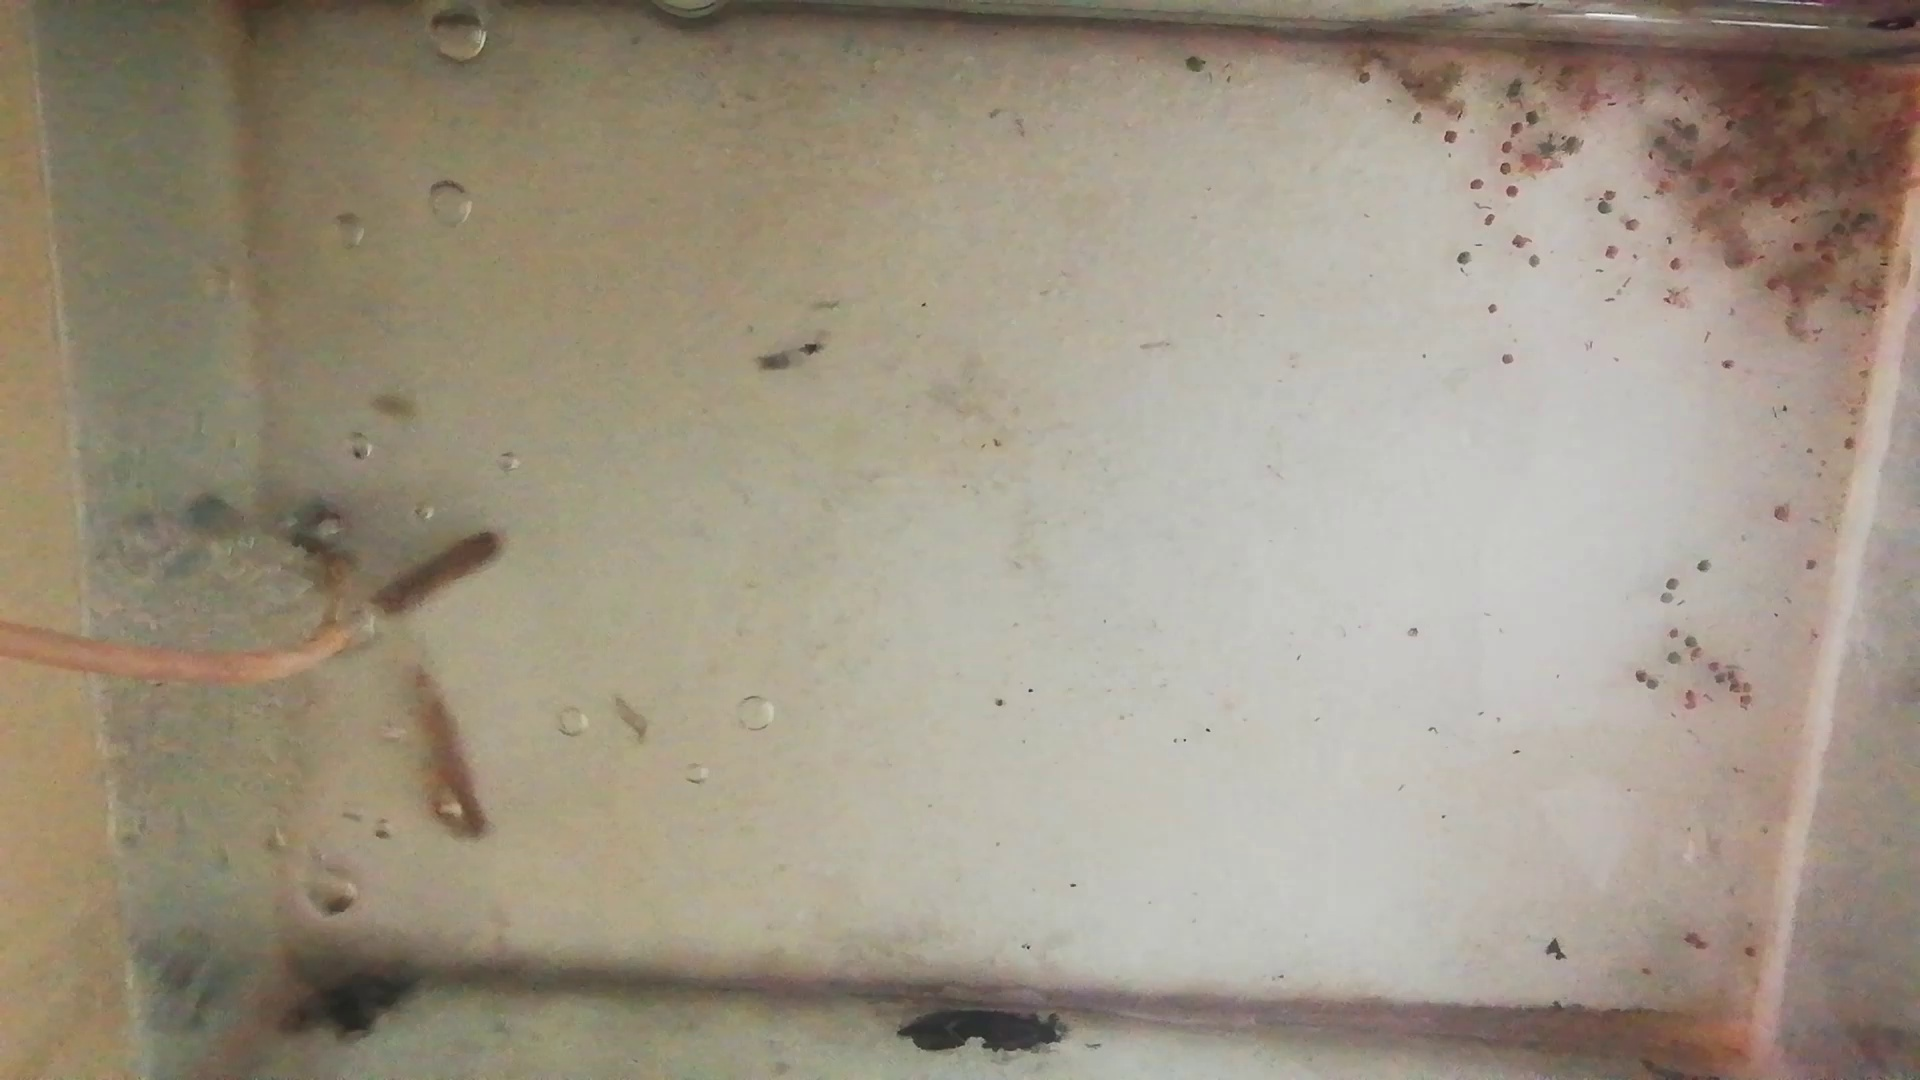fish: (396, 666, 491, 844), (365, 530, 510, 629)
